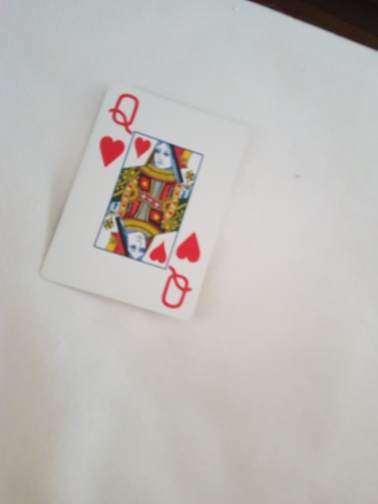queen: (43, 81, 251, 326)
